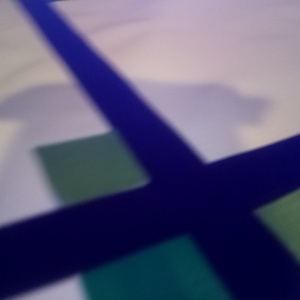bottom_left: (82, 206, 251, 300)
bottom_right: (220, 160, 300, 277)
top_left: (37, 130, 172, 239)
